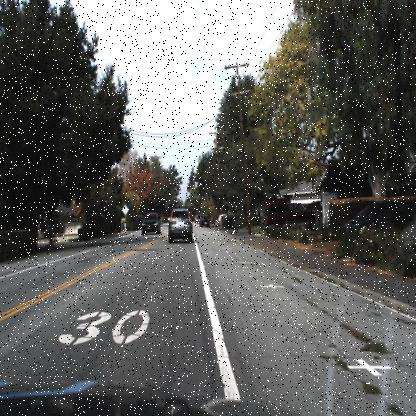car: (261, 194, 315, 232), (166, 206, 196, 247), (139, 204, 162, 237), (199, 212, 213, 230)
